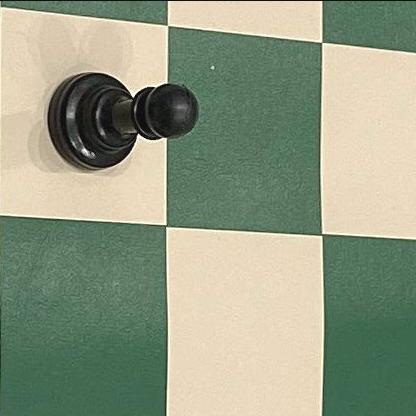black-pawn: (42, 65, 206, 177)
